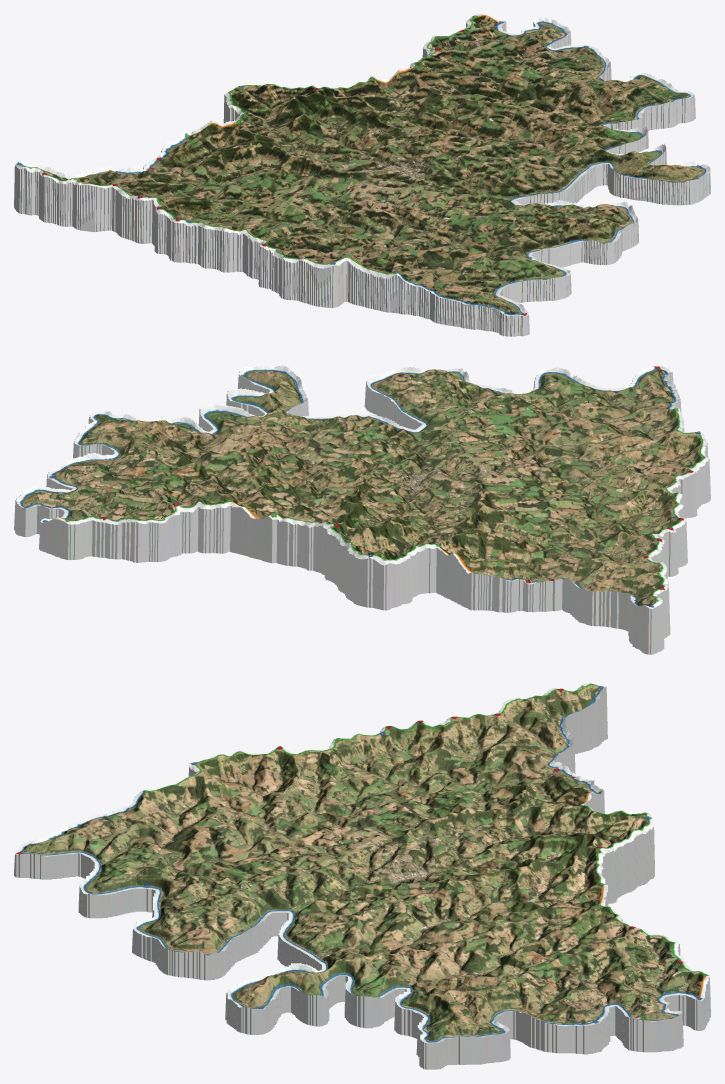
The picture shows the model from 3 angles, top to bottom: view 1: azimuth 30°, elevation 25°; view 2: azimuth 150°, elevation 25°; view 3: azimuth 270°, elevation 25°; orthographic projection. The views are drawn at different scales.
Size of the model in its own units: 0.9998 by 0.0759 by 0.875.
Materials: 1 (1 with a texture image).
